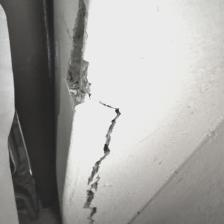High: (59, 1, 124, 224)
